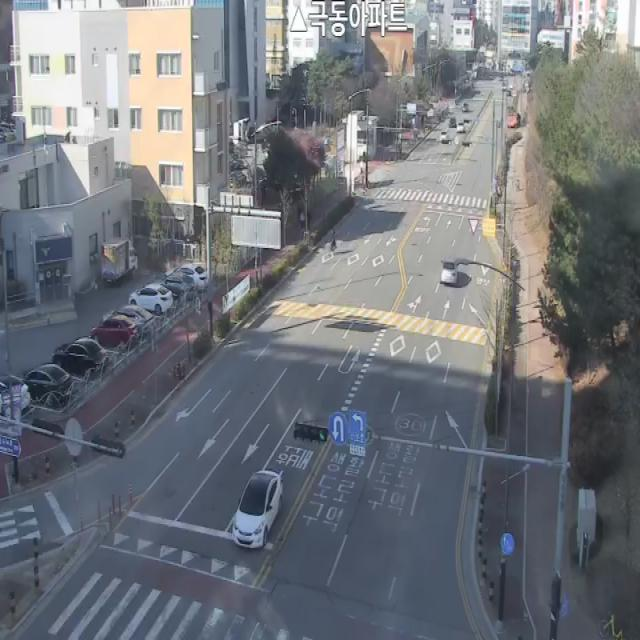Bus: (507, 109, 521, 129)
Car: (233, 467, 284, 549), (21, 361, 74, 406), (53, 334, 108, 375), (102, 232, 138, 281), (90, 312, 137, 347), (0, 371, 32, 417), (155, 271, 200, 299), (129, 282, 174, 309), (164, 257, 208, 282), (440, 260, 458, 288), (449, 116, 457, 128), (457, 121, 465, 132), (440, 131, 450, 139), (462, 103, 469, 112)
